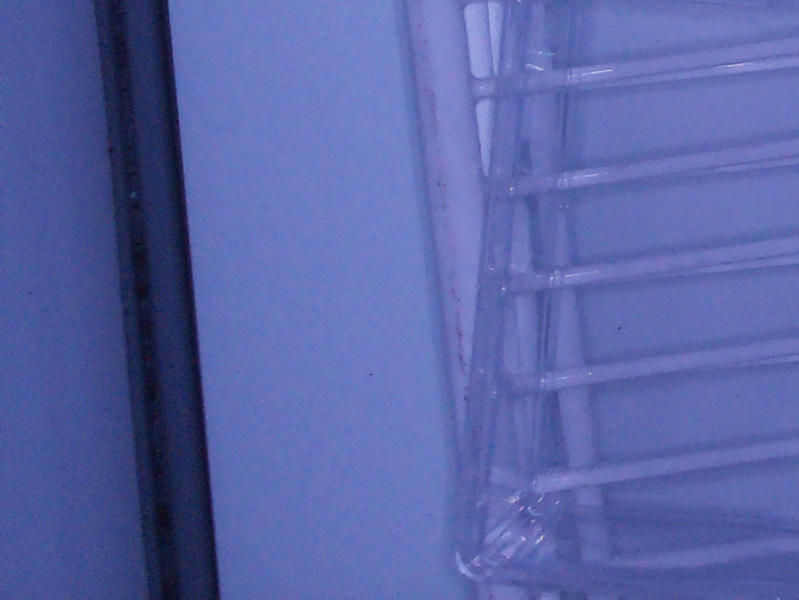plate: (445, 1, 799, 600)
